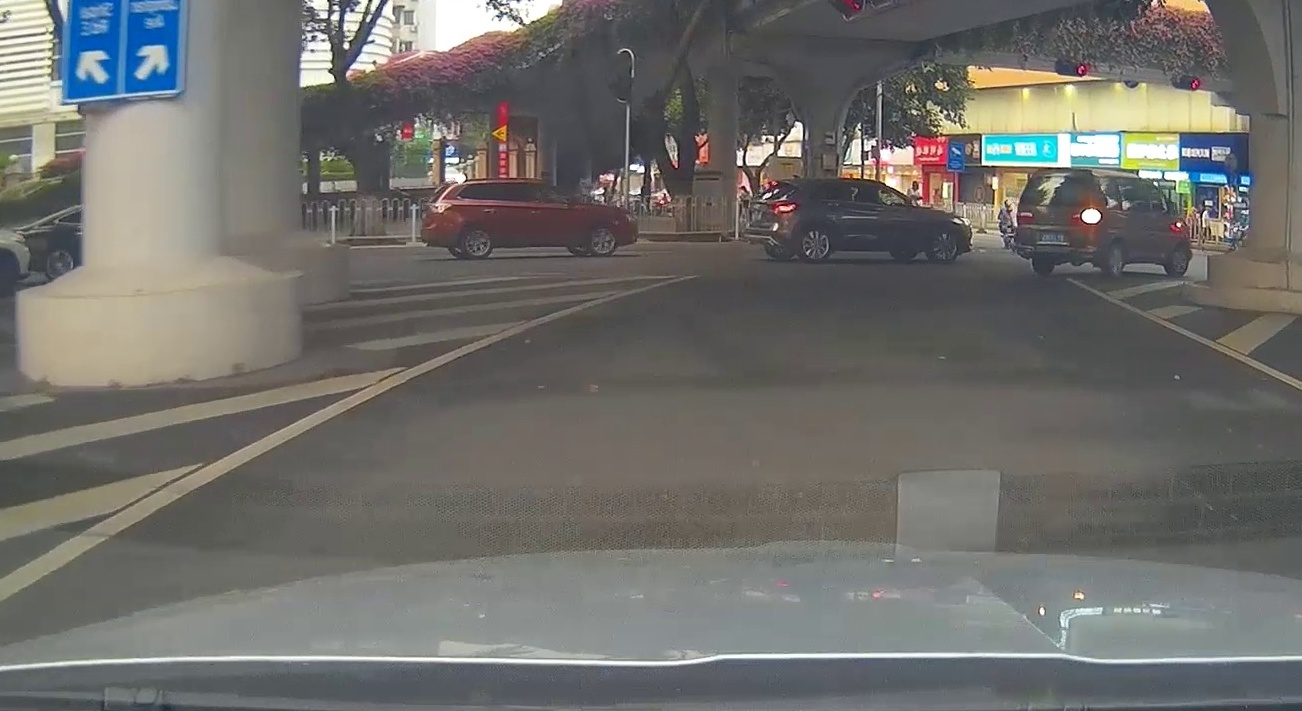L_light: (1016, 212, 1034, 226)
R_light: (1073, 212, 1097, 226)
T_light: (1046, 176, 1062, 179)
day-right: (1016, 167, 1100, 279)
